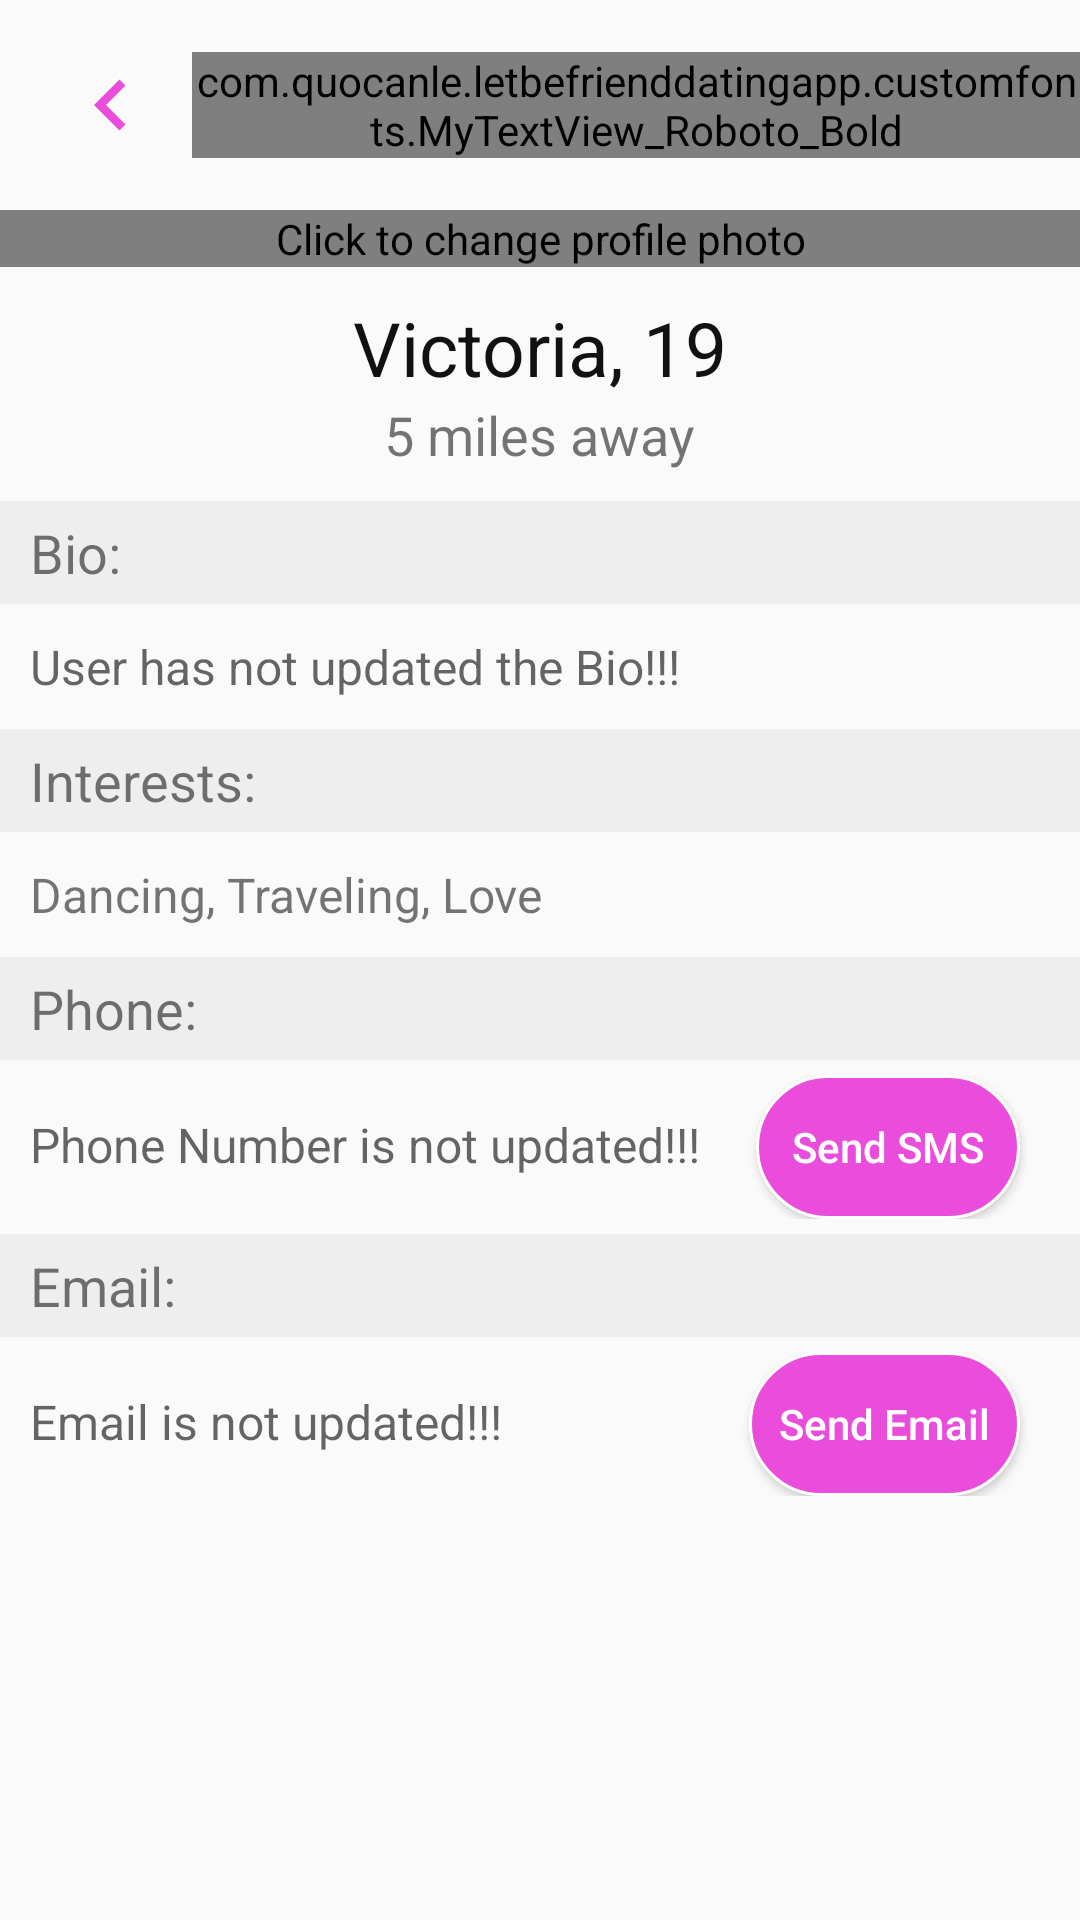

Point at icon controls on the screen. Image size 1080px×1920px, points as (x=x, y=y).
chevron left: (x=110, y=105)
